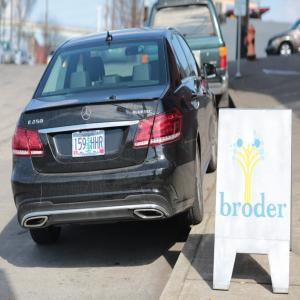Vehicle-registration-plate: (75, 132, 103, 160)
